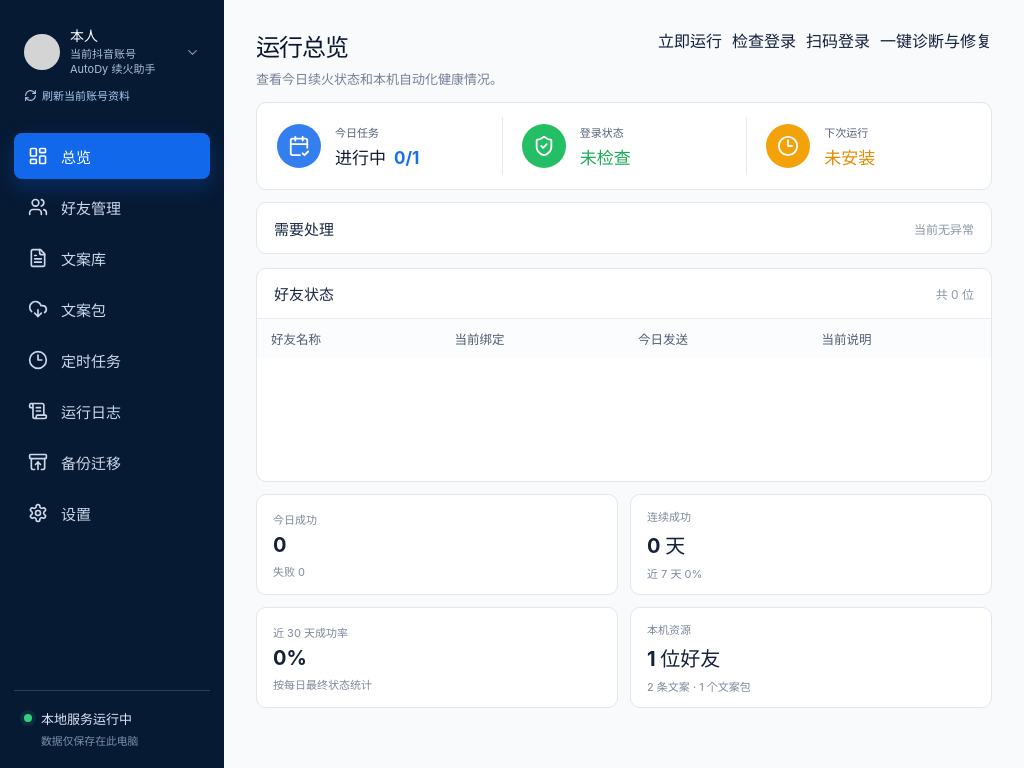
Test case: refreshes the overview resource count immediately after a friend mutation
What coordinates should you click on to do the following:
click the button "好友管理"
I would click on:
 (112, 207)
Its box is [14,184,210,230].
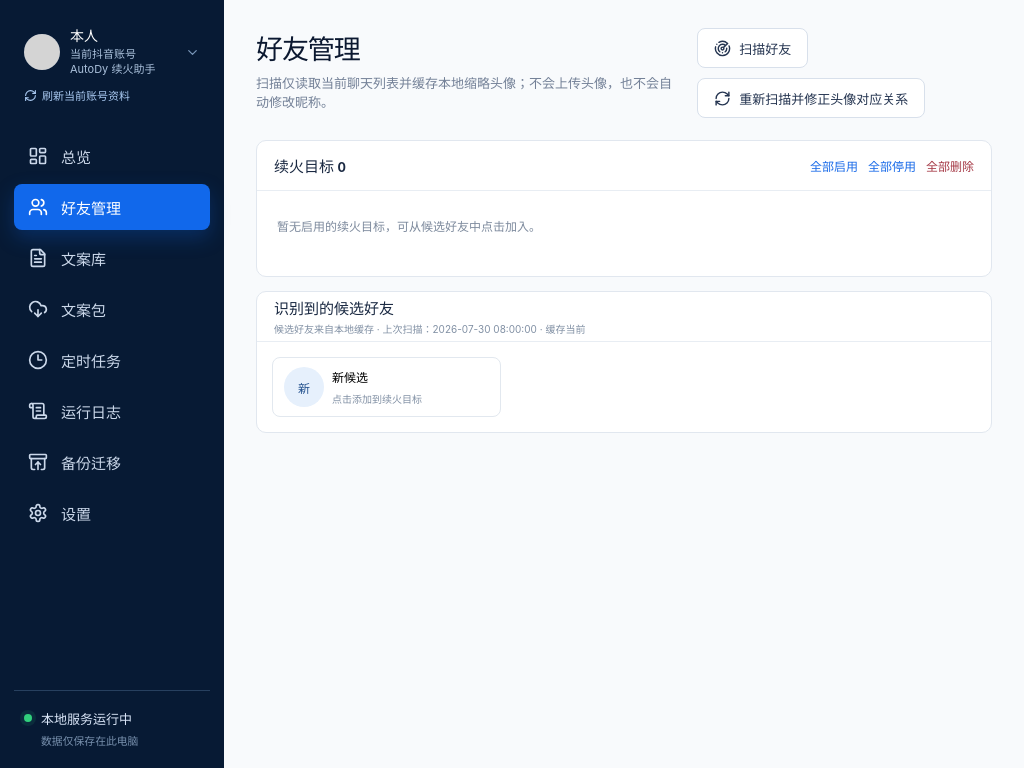
What coordinates should you click on to do the following:
click the button with aria-label "添加 新候选"
I would click on:
 (386, 387)
Its box is [272,357,501,417].
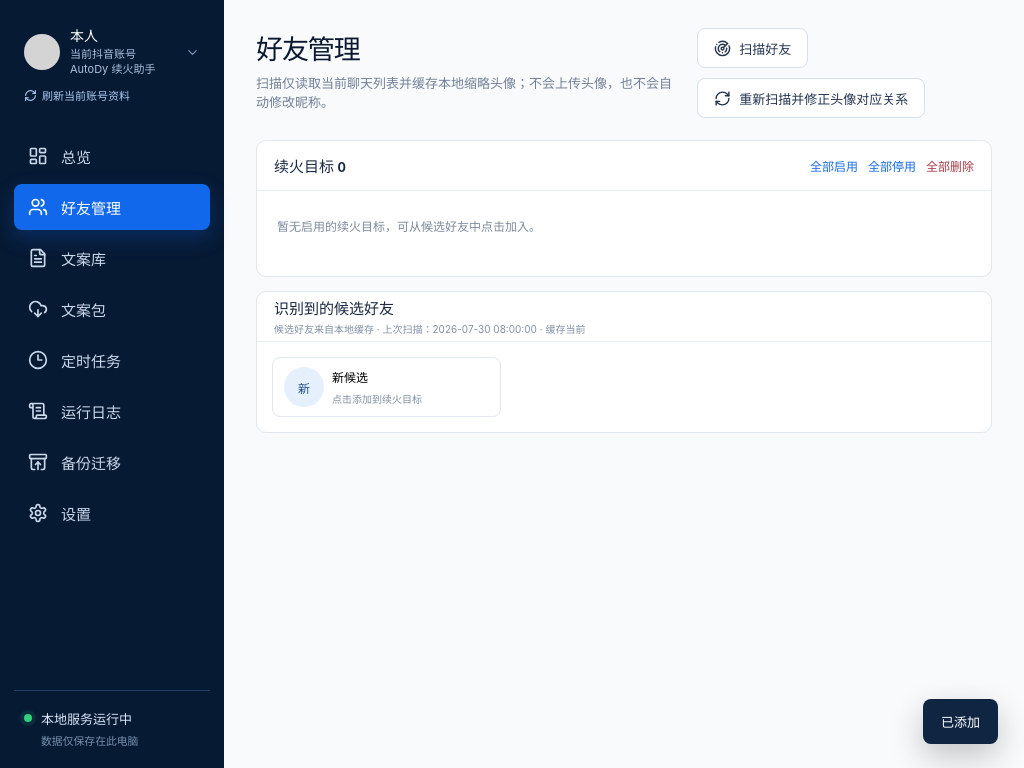
What coordinates should you click on to do the following:
click the button "总览"
I would click on:
 (112, 156)
Its box is [14,133,210,179].
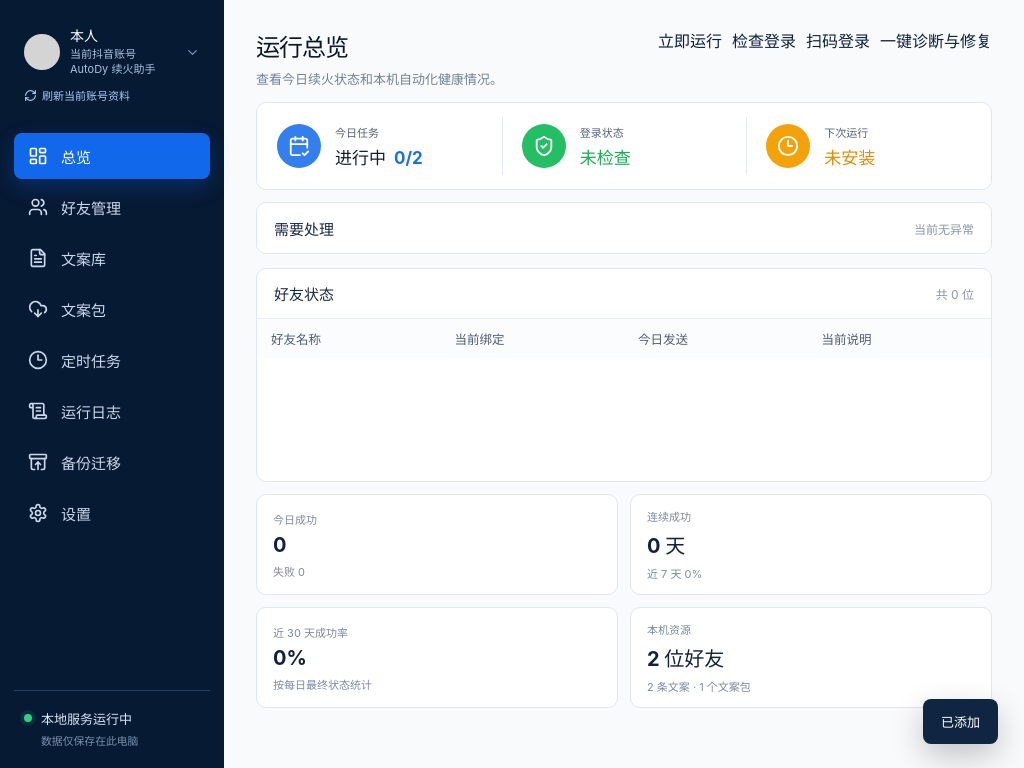
Now the text "2 位好友" is shown, box [647,647,724,671]
